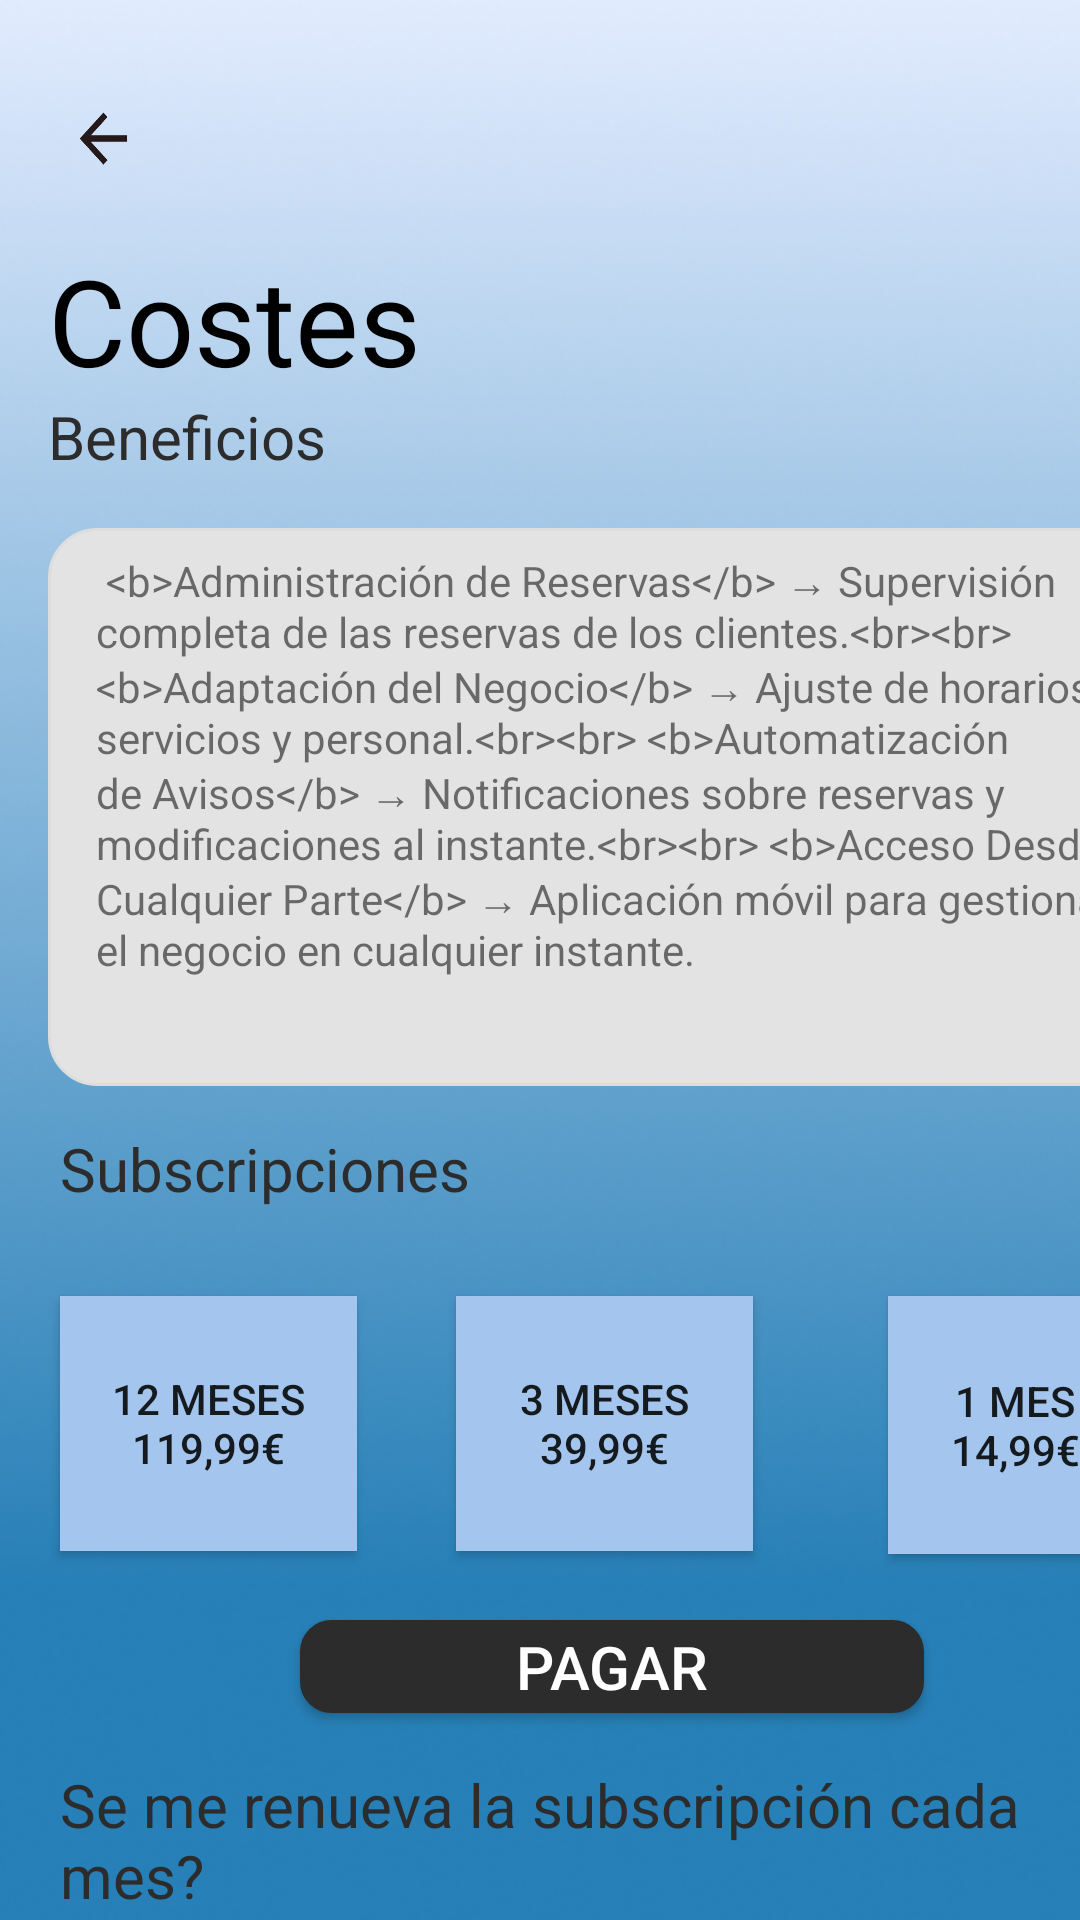

Screen size 1080 x 1920. Icon name, then its box in pixels as (x1, y1, x2, y2):
flecha atras negra: (80, 112, 127, 165)
